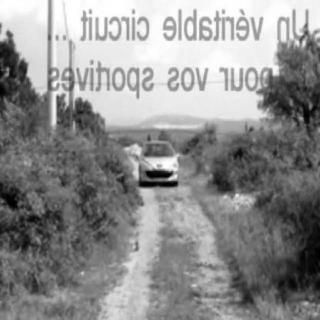other: (119, 118, 156, 214)
